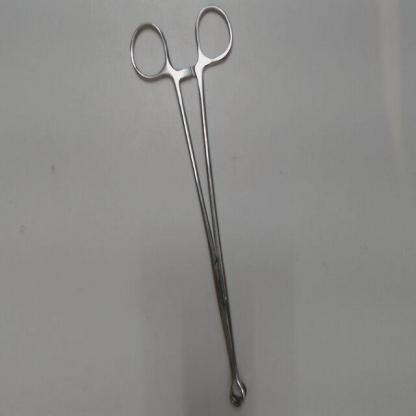8 Babcock Tissue Forceps: (122, 0, 252, 409)
